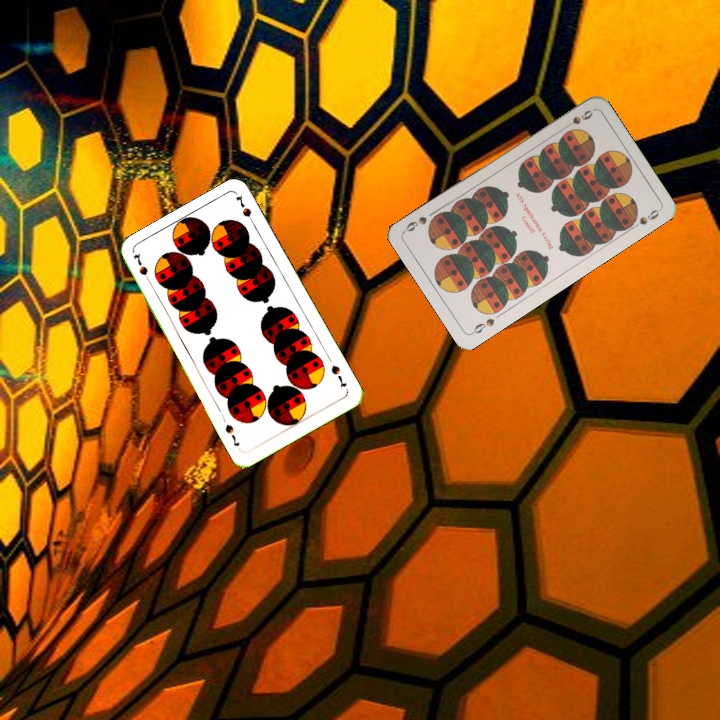S7: (129, 249, 154, 288), (327, 361, 349, 391)
S9: (559, 106, 596, 133), (467, 314, 497, 337)
